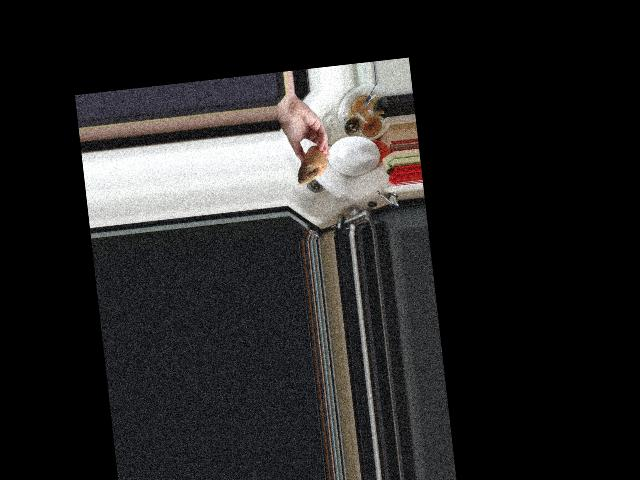sweet_potato: (291, 144, 330, 185)
